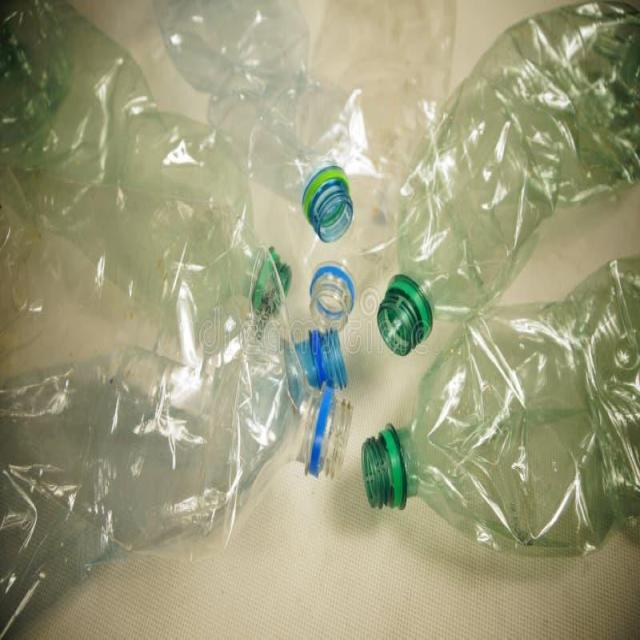plastic bottle: (0, 166, 352, 486), (0, 329, 348, 635), (0, 0, 290, 328), (376, 0, 640, 358), (362, 256, 640, 557), (298, 0, 453, 336), (149, 0, 353, 240)
